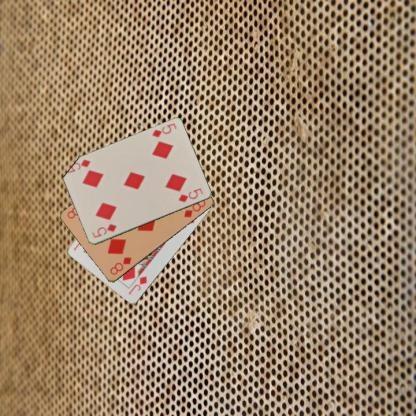5d: (89, 221, 118, 239), (149, 121, 177, 138)
8d: (107, 255, 133, 276)
Jd: (126, 273, 148, 296)
